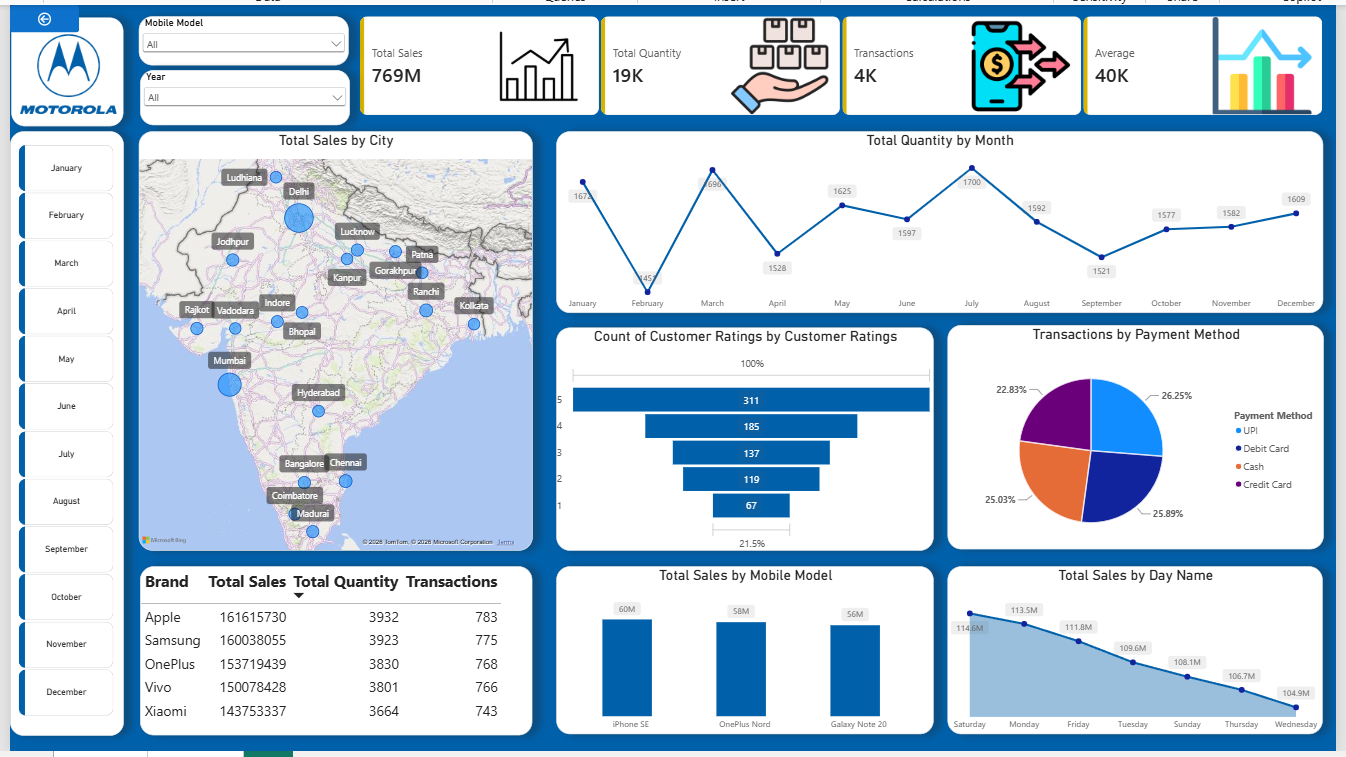

The page's visual inventory and layout, read from the dashboard file:
{"tool":"powerbi","page":{"name":"Page 1","canvas":[1920,1080],"ordinal":0},"visuals":[{"type":"shape","box":[2.5,17.5,162.5,157.5],"z":0},{"type":"image","box":[15,25,140,150],"z":1000},{"type":"shape","box":[0,182.5,165,875],"z":2000},{"type":"advancedSlicerVisual","fields":{"Values":["Sales_Data_.Date.Variation.Date Hierarchy.Month"]},"box":[12.5,202.5,137.5,837.5],"z":3000},{"type":"cardVisual","fields":{"Data":["Sales_Data_.Total Sales","Sales_Data_.Total Quantity","Sales_Data_.Transactions","Sales_Data_.Average"]},"box":[506.7,16.7,1396.7,143.3],"z":4000},{"type":"map","fields":{"Category":["Sales_Data_.City"],"Size":["Sales_Data_.Total Sales"]},"box":[186.7,183.3,570,607.5],"z":5000},{"type":"lineChart","fields":{"Category":["Sales_Data_.Date.Variation.Date Hierarchy.Month","Sales_Data_.Date.Variation.Date Hierarchy.Day"],"Y":["Sales_Data_.Total Quantity"]},"box":[790,183.3,1110,263.3],"z":6000},{"type":"clusteredColumnChart","fields":{"Category":["Sales_Data_.Mobile Model"],"Y":["Sales_Data_.Total Sales"]},"box":[790,813.3,546.7,243.3],"z":7000},{"type":"pieChart","fields":{"Category":["Sales_Data_.Payment Method"],"Y":["Sales_Data_.Transactions"]},"box":[1356.7,463.3,545,325],"z":8000},{"type":"funnel","fields":{"Category":["Sales_Data_.Customer Ratings"],"Y":["CountNonNull(Sales_Data_.Customer Ratings)"]},"box":[790,466.7,546.7,323.3],"z":9000},{"type":"areaChart","fields":{"Category":["Sales_Data_.Day Name"],"Y":["Sales_Data_.Total Sales"]},"box":[1356.7,813.3,543.3,243.3],"z":10000},{"type":"tableEx","fields":{"Values":["Sales_Data_.Brand","Sales_Data_.Total Sales","Sales_Data_.Total Quantity","Sales_Data_.Transactions"]},"box":[188.3,813.3,568.3,245],"z":11000},{"type":"actionButton","box":[0,0,100,40],"z":12000},{"type":"slicer","fields":{"Values":["Sales_Data_.Mobile Model"]},"box":[187.1,17.1,304.3,71.4],"z":13000},{"type":"slicer","fields":{"Values":["Sales_Data_.Date.Variation.Date Hierarchy.Year"]},"box":[188.6,94.3,304.3,80],"z":13001}]}

Visuals, with their boxes in screenshot pixels (x1, y1, x2, y2), scaled from the page's 1920x1080 canvas onto the 1346x757 screenshot:
shape: {"left": 2, "top": 12, "right": 116, "bottom": 123}
image: {"left": 11, "top": 18, "right": 109, "bottom": 123}
shape: {"left": 0, "top": 128, "right": 116, "bottom": 741}
advancedSlicerVisual - Sales_Data_.Date.Variation.Date Hierarchy.Month: {"left": 9, "top": 142, "right": 105, "bottom": 729}
cardVisual - Sales_Data_.Total Sales x Sales_Data_.Total Quantity: {"left": 355, "top": 12, "right": 1334, "bottom": 112}
map - Sales_Data_.City x Sales_Data_.Total Sales: {"left": 131, "top": 128, "right": 530, "bottom": 554}
lineChart - Sales_Data_.Date.Variation.Date Hierarchy.Month x Sales_Data_.Date.Variation.Date Hierarchy.Day: {"left": 554, "top": 128, "right": 1332, "bottom": 313}
clusteredColumnChart - Sales_Data_.Mobile Model x Sales_Data_.Total Sales: {"left": 554, "top": 570, "right": 937, "bottom": 741}
pieChart - Sales_Data_.Payment Method x Sales_Data_.Transactions: {"left": 951, "top": 325, "right": 1333, "bottom": 553}
funnel - Sales_Data_.Customer Ratings x CountNonNull(Sales_Data_.Customer Ratings): {"left": 554, "top": 327, "right": 937, "bottom": 554}
areaChart - Sales_Data_.Day Name x Sales_Data_.Total Sales: {"left": 951, "top": 570, "right": 1332, "bottom": 741}
tableEx - Sales_Data_.Brand x Sales_Data_.Total Sales: {"left": 132, "top": 570, "right": 530, "bottom": 742}
actionButton: {"left": 0, "top": 0, "right": 70, "bottom": 28}
slicer - Sales_Data_.Mobile Model: {"left": 131, "top": 12, "right": 344, "bottom": 62}
slicer - Sales_Data_.Date.Variation.Date Hierarchy.Year: {"left": 132, "top": 66, "right": 346, "bottom": 122}
